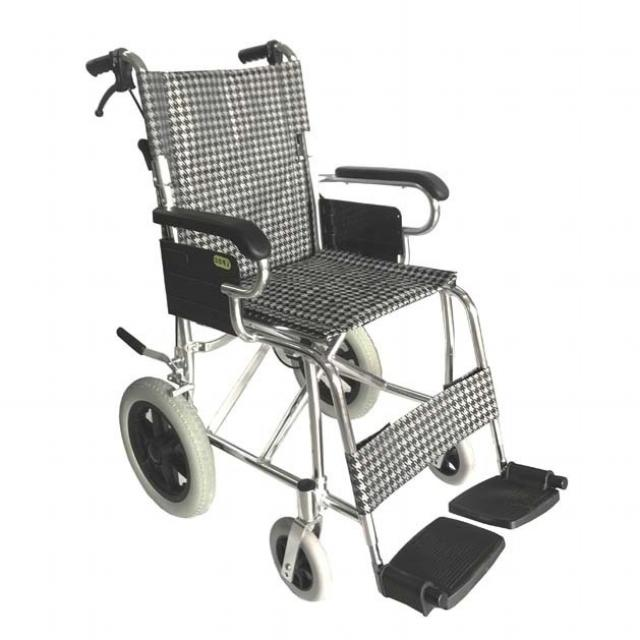wheelchair: (72, 35, 585, 626)
